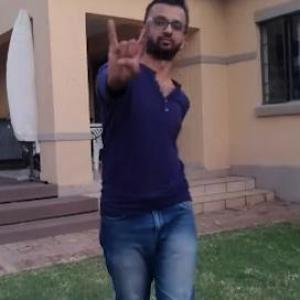takeoff-hand: (100, 7, 160, 92)
